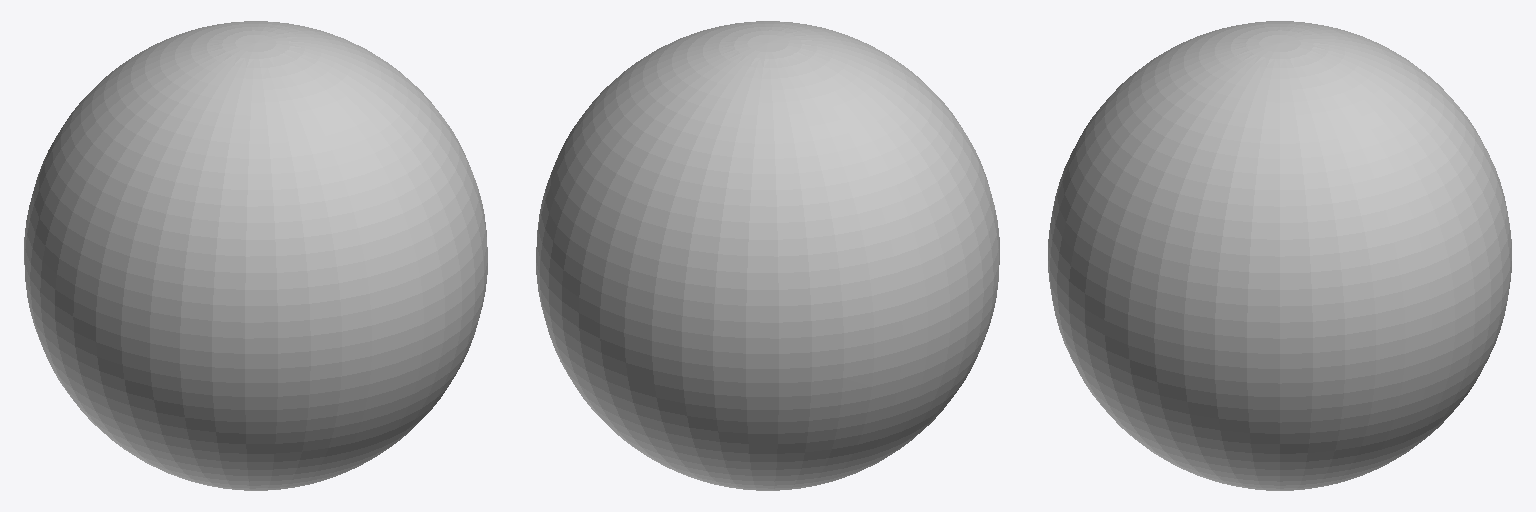
Rendered from mercury.obj.
3 views of the same model, side by side, from view 1: azimuth 30°, elevation 25°; view 2: azimuth 150°, elevation 25°; view 3: azimuth 270°, elevation 25° (orthographic).
Parts seen in each view (by area): view 1: Mercury; view 2: Mercury; view 3: Mercury.
Part boxes in pixels (x1,y1,x2,y2): Mercury: (24, 21, 487, 490); Mercury: (536, 21, 999, 490); Mercury: (1048, 21, 1511, 490).
Bounding box in the file's own units: 9.29 × 9.4 × 9.29.